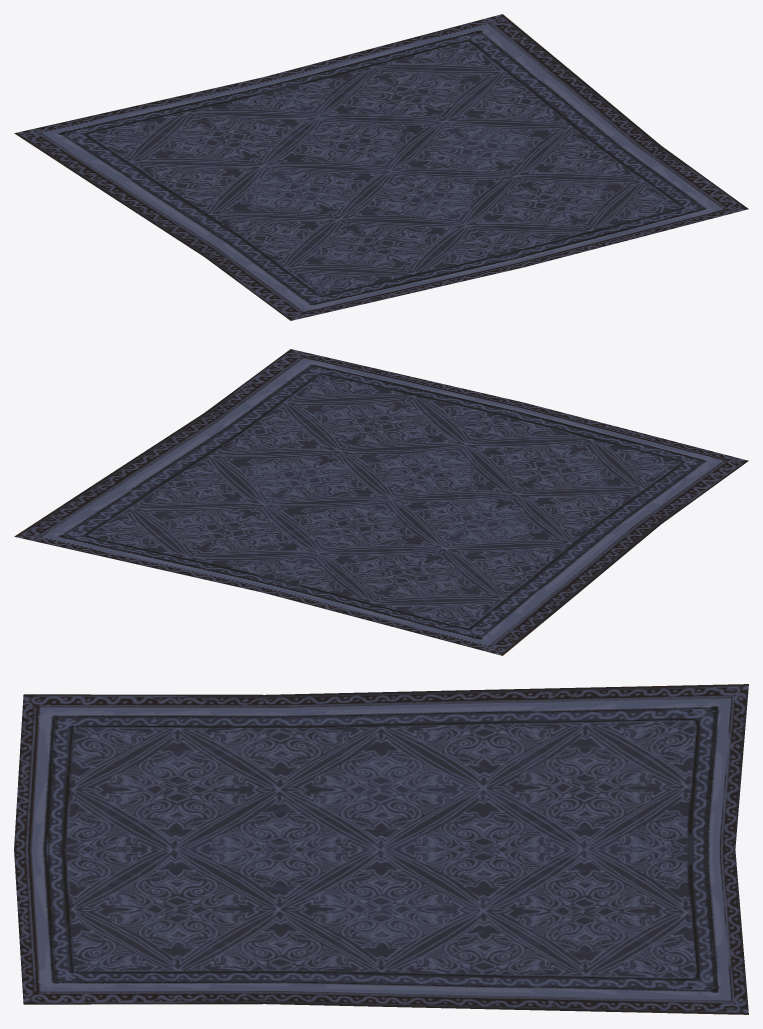
File: SM_PROP_carpet_city_02.fbx
The picture shows the model from 3 angles, top to bottom: view 1: azimuth 30°, elevation 25°; view 2: azimuth 150°, elevation 25°; view 3: azimuth 270°, elevation 25°; orthographic projection. The views are drawn at different scales.
Visible parts, largest first — view 1: SM_PROP_carpet_city_02; view 2: SM_PROP_carpet_city_02; view 3: SM_PROP_carpet_city_02.
Part boxes in pixels (left/top/right/bottom): SM_PROP_carpet_city_02: left=14, top=14, right=748, bottom=320; SM_PROP_carpet_city_02: left=14, top=349, right=748, bottom=655; SM_PROP_carpet_city_02: left=14, top=684, right=748, bottom=1014.
Bounding box in the file's own units: 211 × 0 × 198.
